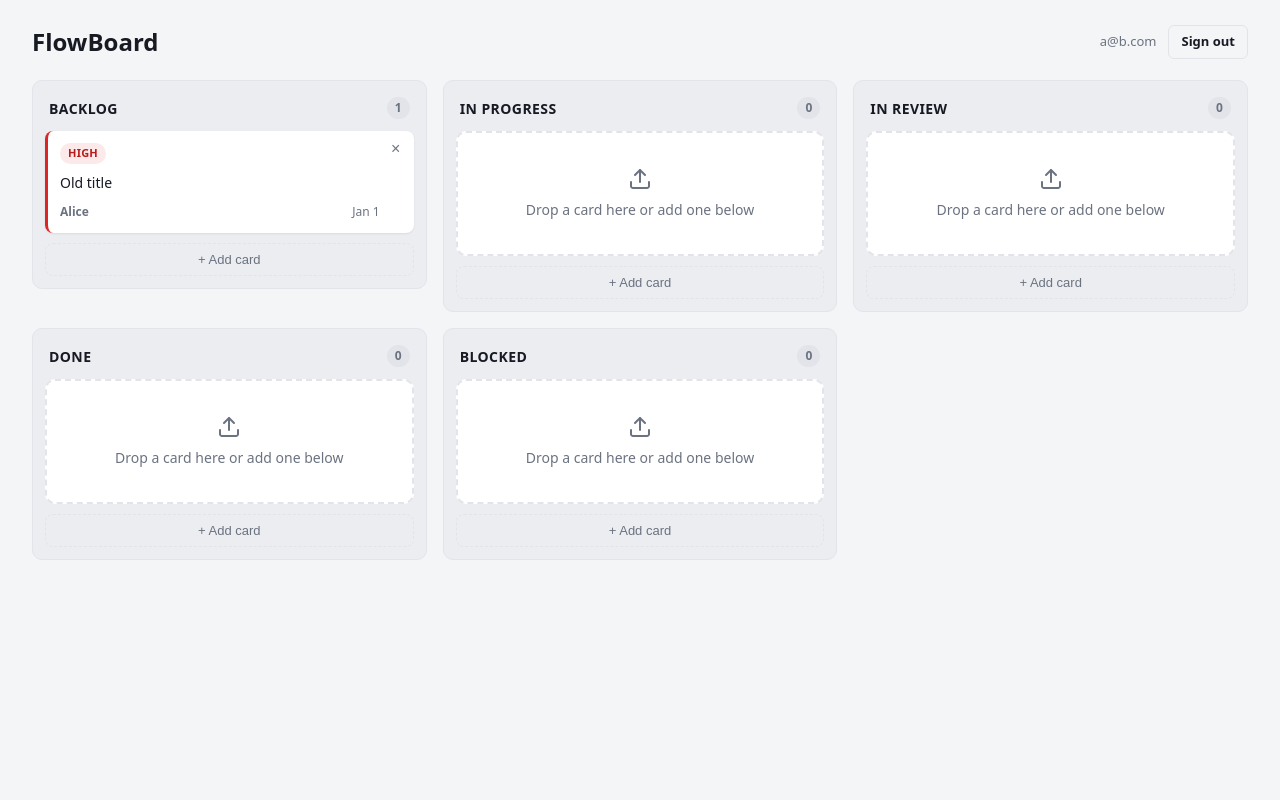
Board › edits an existing card
Click the button with aria-label "Edit Old title".
click(83, 153)  # box [48, 131, 414, 232]
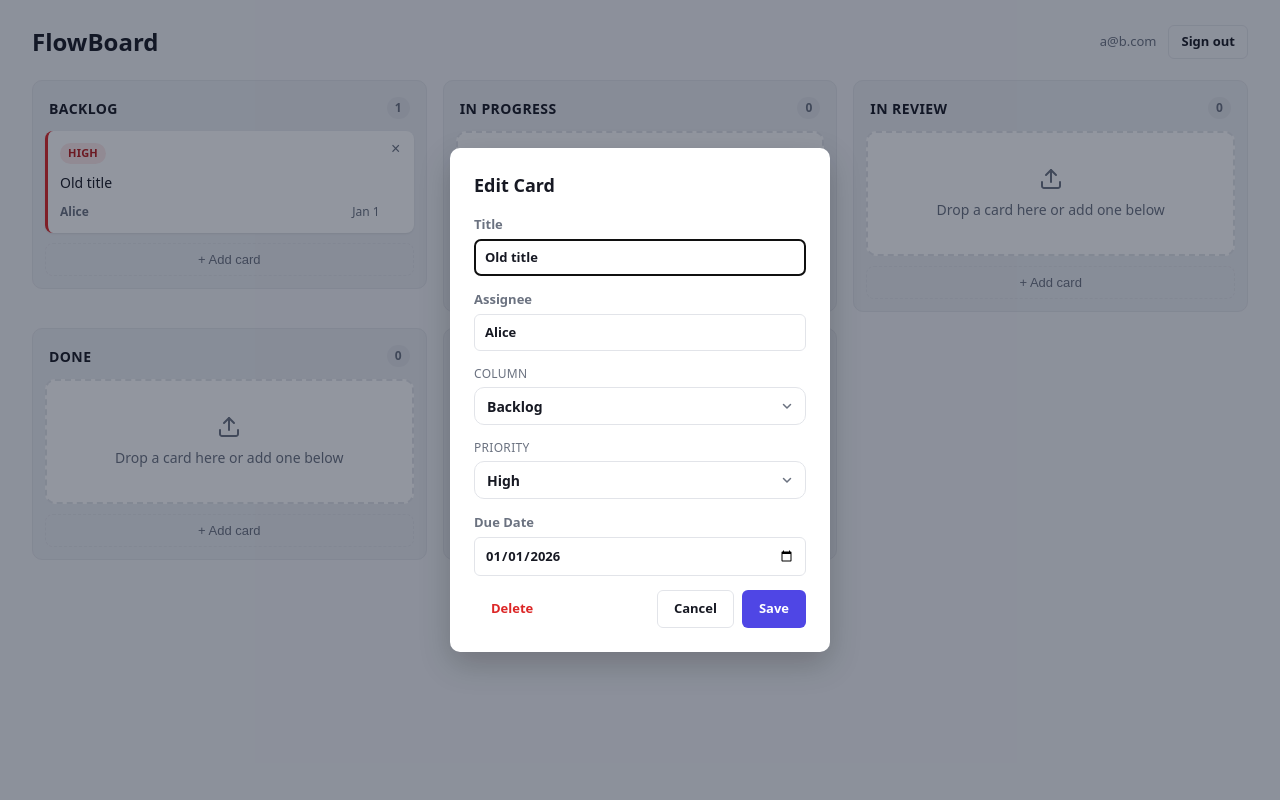
Replace the text in the field labelled "Title" with "New title" at [640, 258], box [474, 239, 806, 276]
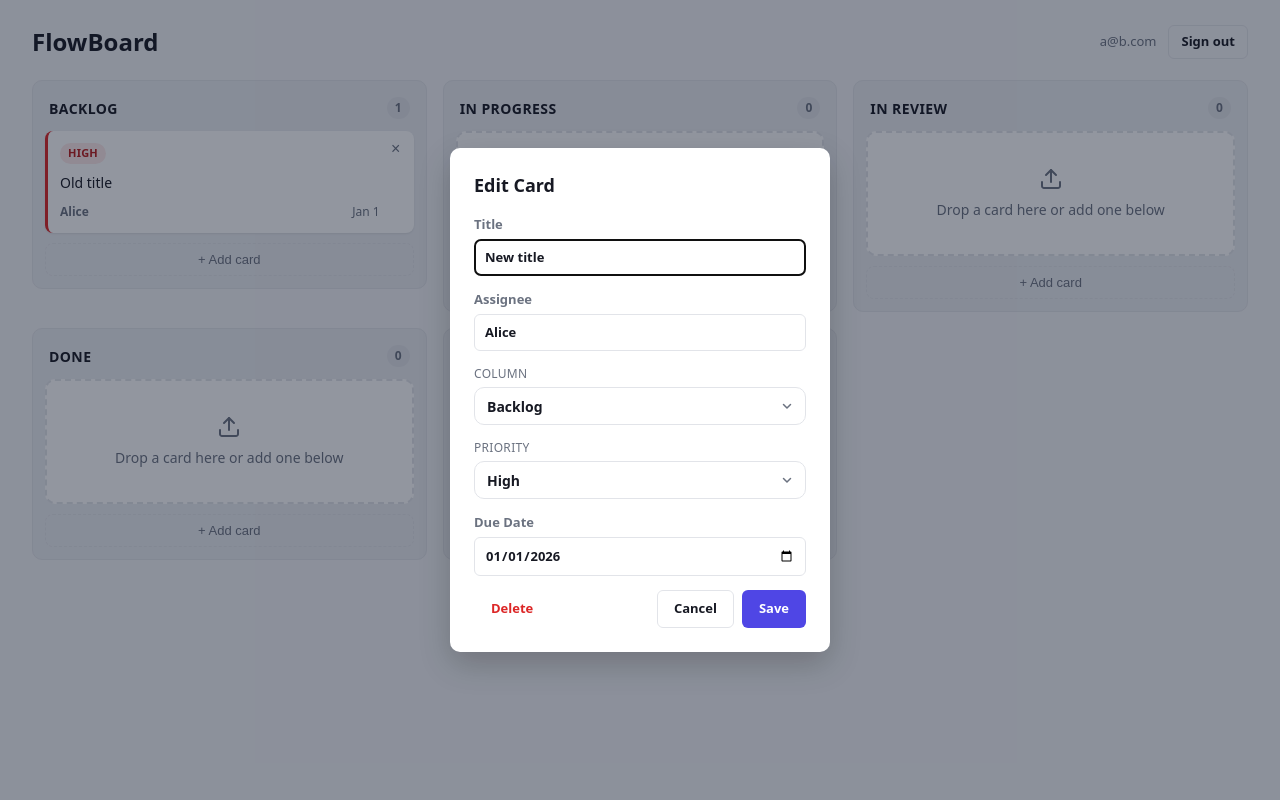
Click the button "Save".
click(774, 609)  # box [742, 590, 806, 628]
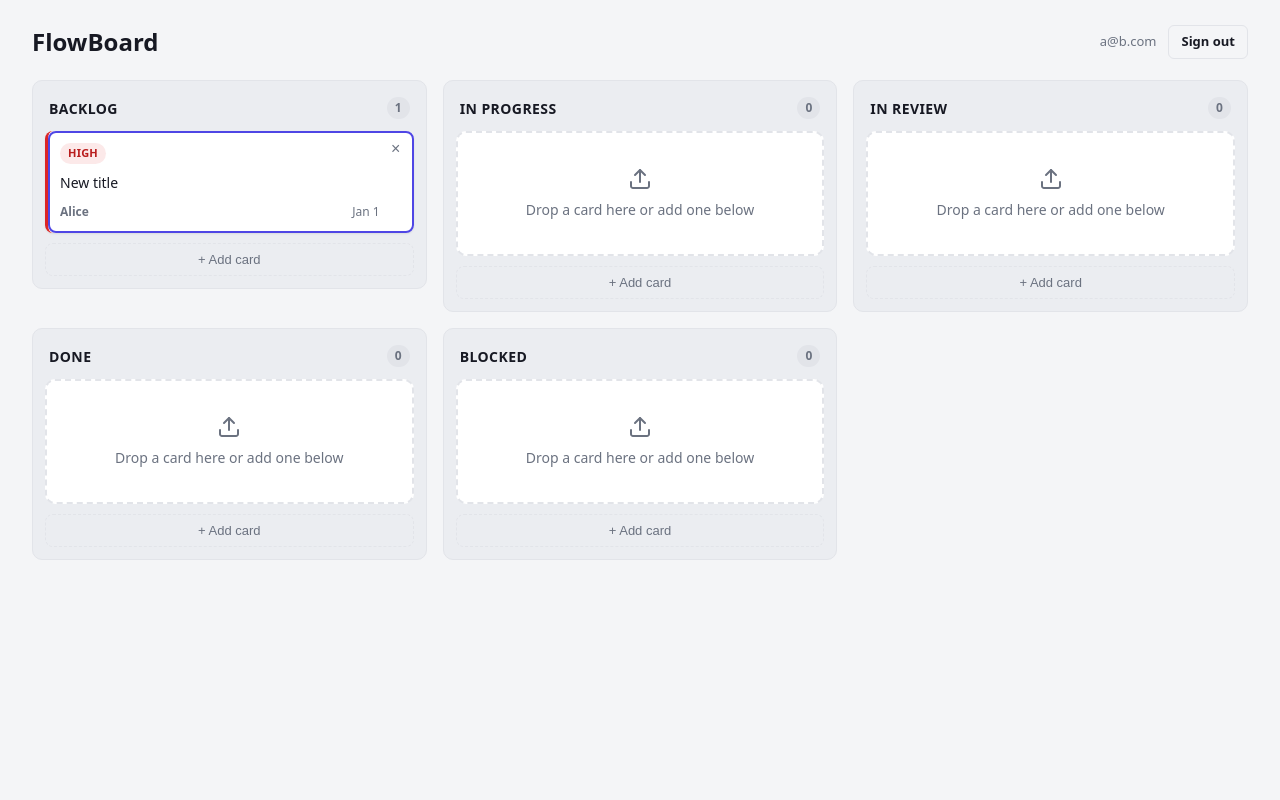
Expected: the text "New title" is shown, [60, 172, 118, 192]
Expected: the button "Old title" is gone
